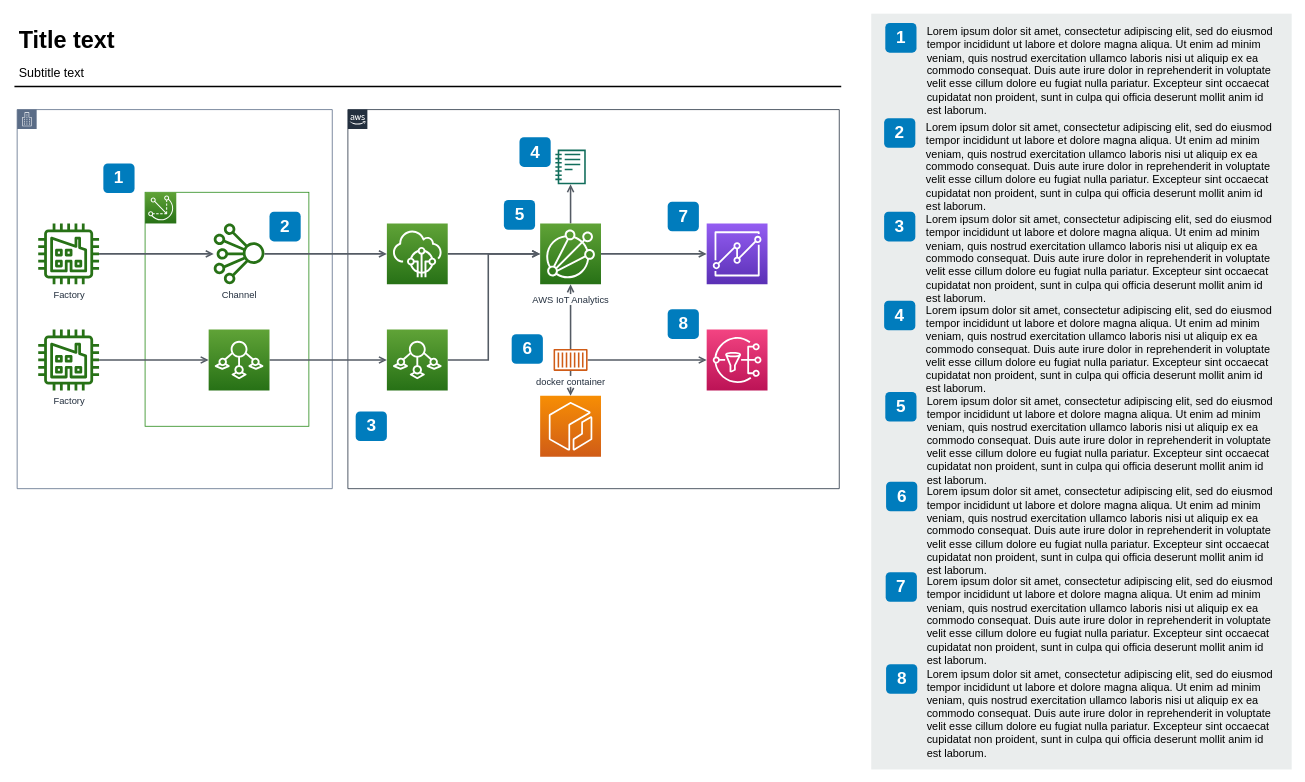
Image size: 1305x782. Some labels were removed from this diagram. Here are the shapes that lost their labels. From the top down, the box of each, then its label:
(555, 149, 585, 184): Notebook
(144, 191, 176, 223): AWS IoT Greengrass
(386, 223, 448, 284): AWS IoT Core
(706, 223, 768, 284): Amazon QuickSight
(16, 109, 332, 489): Corporate data center
(347, 109, 839, 489): AWS Cloud
(208, 329, 269, 390): AWS IoT SiteWise Connector
(386, 329, 448, 390): AWS IoT SiteWise
(706, 329, 768, 390): Amazon SNS
(539, 395, 601, 457): Amazon ECR
